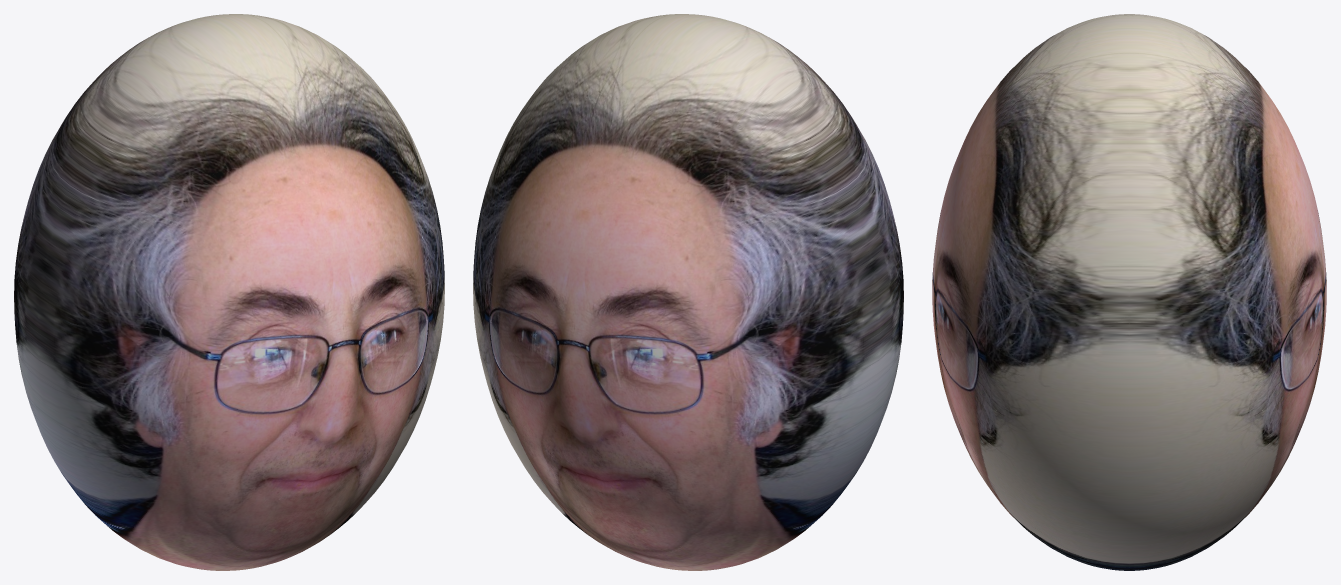
The model's file is brian-david-josephson.glb.
3 views of the same model, side by side, from view 1: azimuth 30°, elevation 25°; view 2: azimuth 150°, elevation 25°; view 3: azimuth 270°, elevation 25° (orthographic).
Parts seen in each view (by area): view 1: head; view 2: head; view 3: head.
Boxes of the visible parts, x1=… form: head: x1=14, y1=14, x2=444, y2=570; head: x1=473, y1=14, x2=903, y2=570; head: x1=932, y1=14, x2=1326, y2=570.
Bounding box in the file's own units: 1.51 × 2 × 1.36.
Materials: 1 (1 with a texture image).
